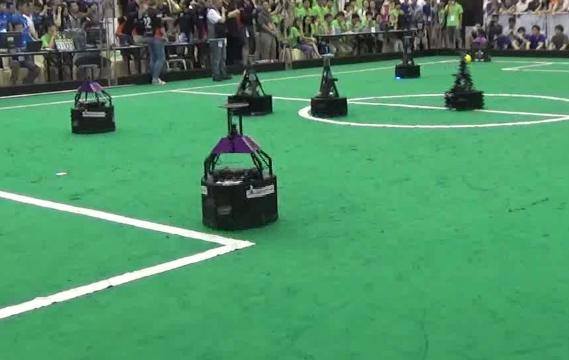robot: (196, 100, 279, 232), (66, 63, 118, 133), (226, 53, 275, 116), (307, 50, 350, 119), (441, 50, 486, 111), (392, 34, 420, 79)
